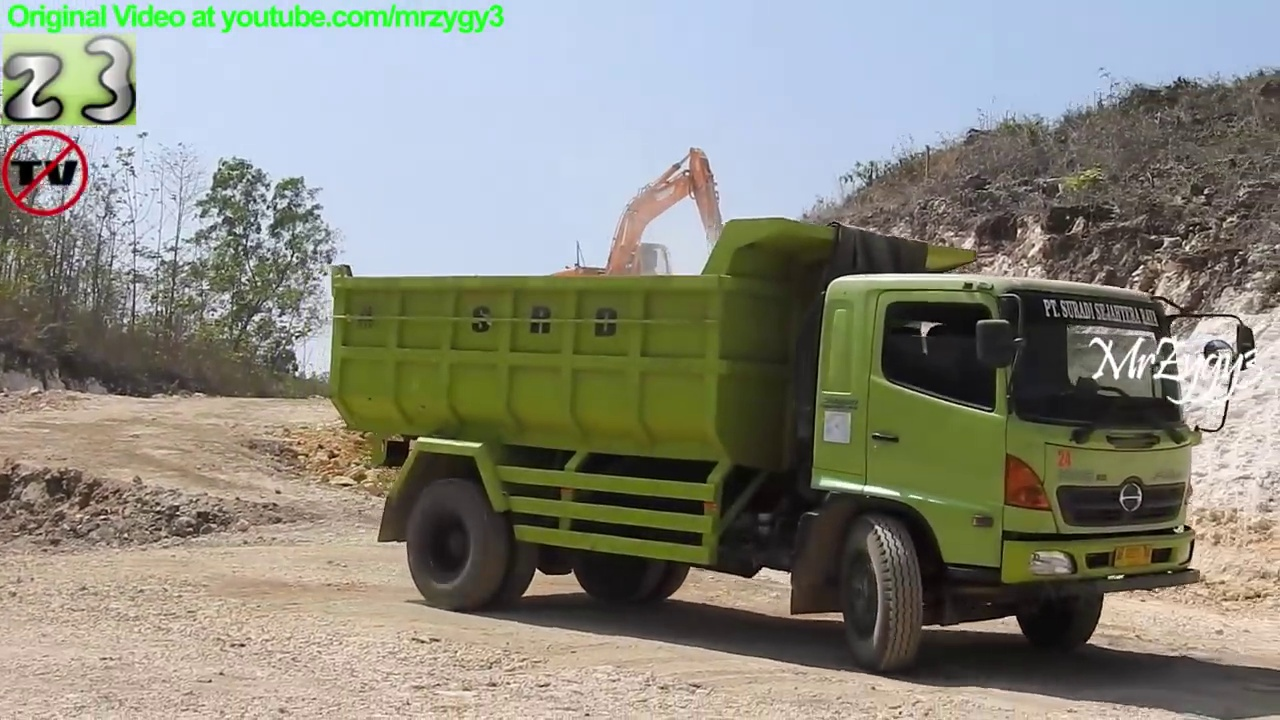excavator: (499, 143, 748, 354)
truck: (319, 213, 1264, 685)
